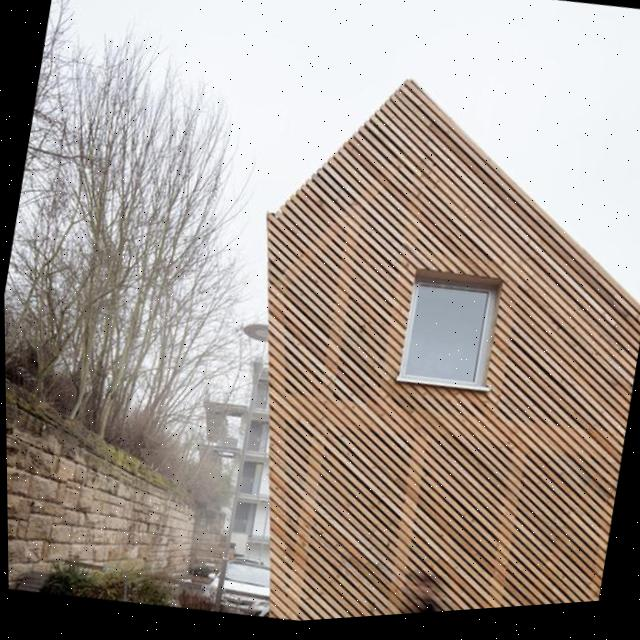building: (186, 34, 640, 628)
